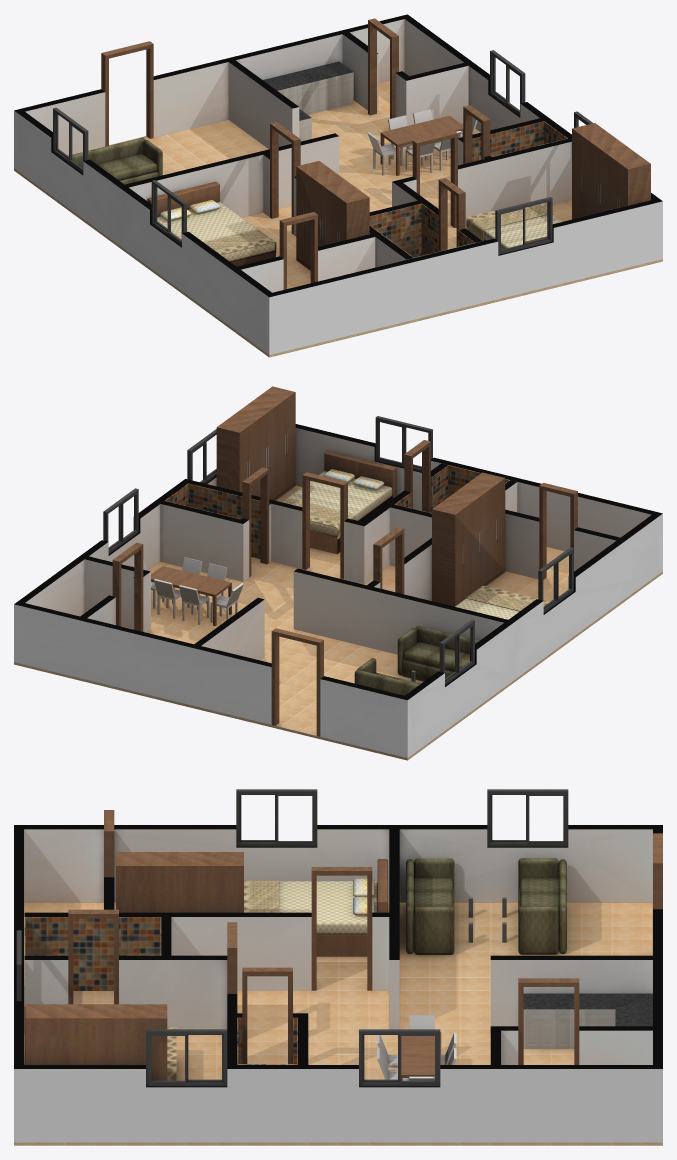
File: f_ground_floor_plan_2.glb
3 renders of one model, top to bottom at view 1: azimuth 30°, elevation 25°; view 2: azimuth 150°, elevation 25°; view 3: azimuth 270°, elevation 25°, orthographic. The views are drawn at different scales.
Visible parts, largest first — view 1: Object002_Object002_mtl_0, Object001_Object001_mtl_0, Object003_Object003_mtl_0; view 2: Object002_Object002_mtl_0, Object003_Object003_mtl_0, Object001_Object001_mtl_0; view 3: Object002_Object002_mtl_0, Object003_Object003_mtl_0, Object001_Object001_mtl_0.
Boxes of the visible parts, x1,y1,x2,y2 form: Object002_Object002_mtl_0: (14, 14, 662, 354); Object001_Object001_mtl_0: (53, 18, 662, 357); Object003_Object003_mtl_0: (14, 61, 650, 356); Object002_Object002_mtl_0: (14, 424, 662, 757); Object003_Object003_mtl_0: (14, 386, 662, 760); Object001_Object001_mtl_0: (103, 416, 577, 736); Object002_Object002_mtl_0: (14, 825, 662, 1142); Object003_Object003_mtl_0: (14, 852, 662, 1145); Object001_Object001_mtl_0: (16, 789, 662, 1086).
Bounding box in the file's own units: 8.69 × 2.03 × 9.76.
Materials: 3 (3 with a texture image).
